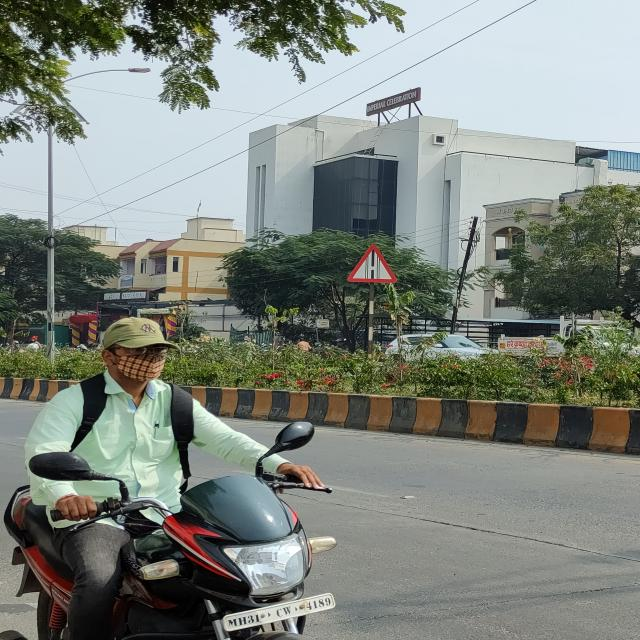GAP_IN_MEDIAN: (346, 244, 399, 284)
